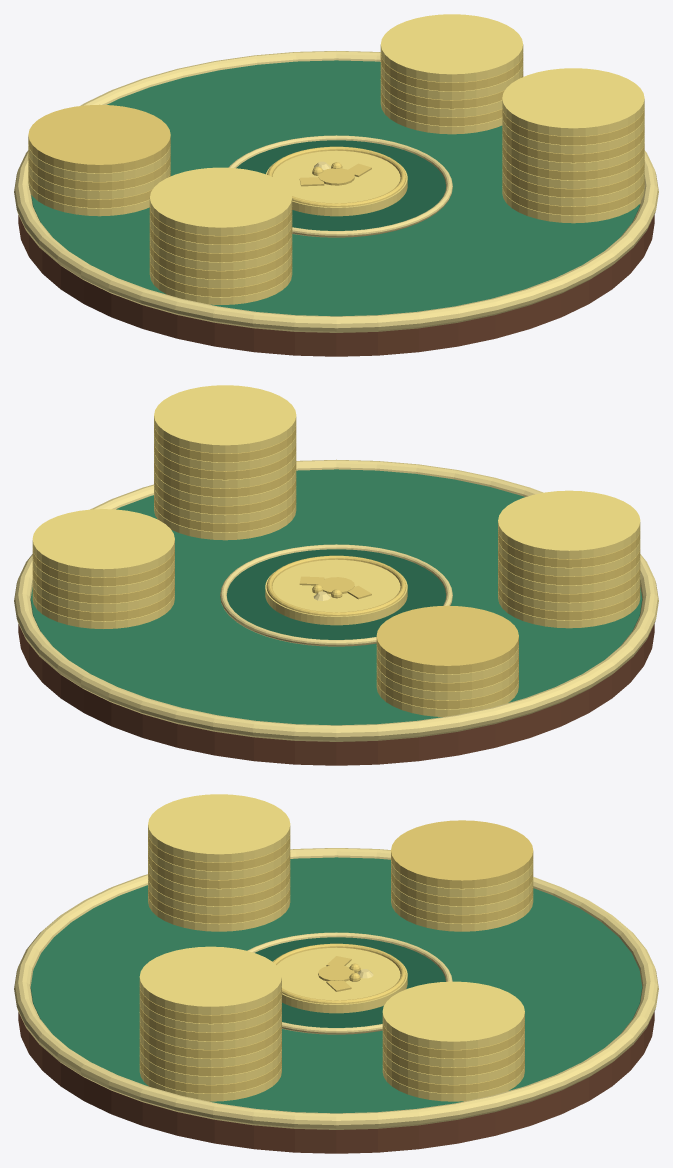
Rendered from st_petersburg_coin.glb.
3 renders of one model, top to bottom at view 1: azimuth 30°, elevation 25°; view 2: azimuth 150°, elevation 25°; view 3: azimuth 270°, elevation 25°, orthographic.
Parts seen in each view (by area): view 1: Cylinder.001, Torus, Cylinder, Cylinder.027, Cylinder.038, Cylinder.020, Cylinder.011, Cylinder.002, Cylinder.003, Torus.001, Torus.002, Cylinder.019 (+29 smaller); view 2: Cylinder.001, Torus, Cylinder, Cylinder.038, Cylinder.027, Cylinder.011, Cylinder.020, Cylinder.002, Cylinder.003, Torus.001, Torus.002, Cylinder.018 (+28 smaller); view 3: Cylinder.001, Torus, Cylinder, Cylinder.011, Cylinder.020, Cylinder.027, Cylinder.038, Cylinder.003, Cylinder.002, Torus.001, Torus.002, Cylinder.016 (+28 smaller).
Boxes of the visible parts, x1,y1,x2,y2 form: Cylinder.001: [31, 60, 640, 316]; Torus: [14, 51, 658, 332]; Cylinder: [18, 215, 654, 356]; Cylinder.027: [380, 14, 523, 82]; Cylinder.038: [502, 68, 644, 136]; Cylinder.020: [149, 167, 292, 235]; Cylinder.011: [28, 104, 170, 173]; Cylinder.002: [236, 140, 446, 230]; Cylinder.003: [266, 150, 407, 216]; Torus.001: [228, 135, 452, 237]; Torus.002: [267, 146, 406, 207]; Cylinder.019: [149, 206, 292, 244]; Cylinder.001: [30, 469, 642, 725]; Torus: [14, 459, 658, 741]; Cylinder: [18, 624, 654, 765]; Cylinder.038: [154, 385, 296, 453]; Cylinder.027: [32, 509, 174, 577]; Cylinder.011: [376, 605, 518, 674]; Cylinder.020: [498, 490, 640, 559]; Cylinder.002: [226, 549, 446, 639]; Cylinder.003: [265, 559, 407, 625]; Torus.001: [220, 544, 452, 646]; Torus.002: [266, 555, 406, 616]; Cylinder.018: [498, 538, 640, 576]; Cylinder.001: [30, 857, 642, 1113]; Torus: [14, 848, 658, 1129]; Cylinder: [18, 1012, 654, 1153]; Cylinder.011: [391, 820, 533, 888]; Cylinder.020: [148, 794, 290, 862]; Cylinder.027: [382, 981, 524, 1049]; Cylinder.038: [139, 946, 281, 1014]; Cylinder.003: [273, 947, 407, 1013]; Cylinder.002: [255, 937, 445, 1027]; Torus.001: [247, 932, 452, 1034]; Torus.002: [273, 943, 406, 1004]; Cylinder.016: [148, 859, 290, 897].
Size of the model in its own units: 7.7 by 1.68 by 7.7.
